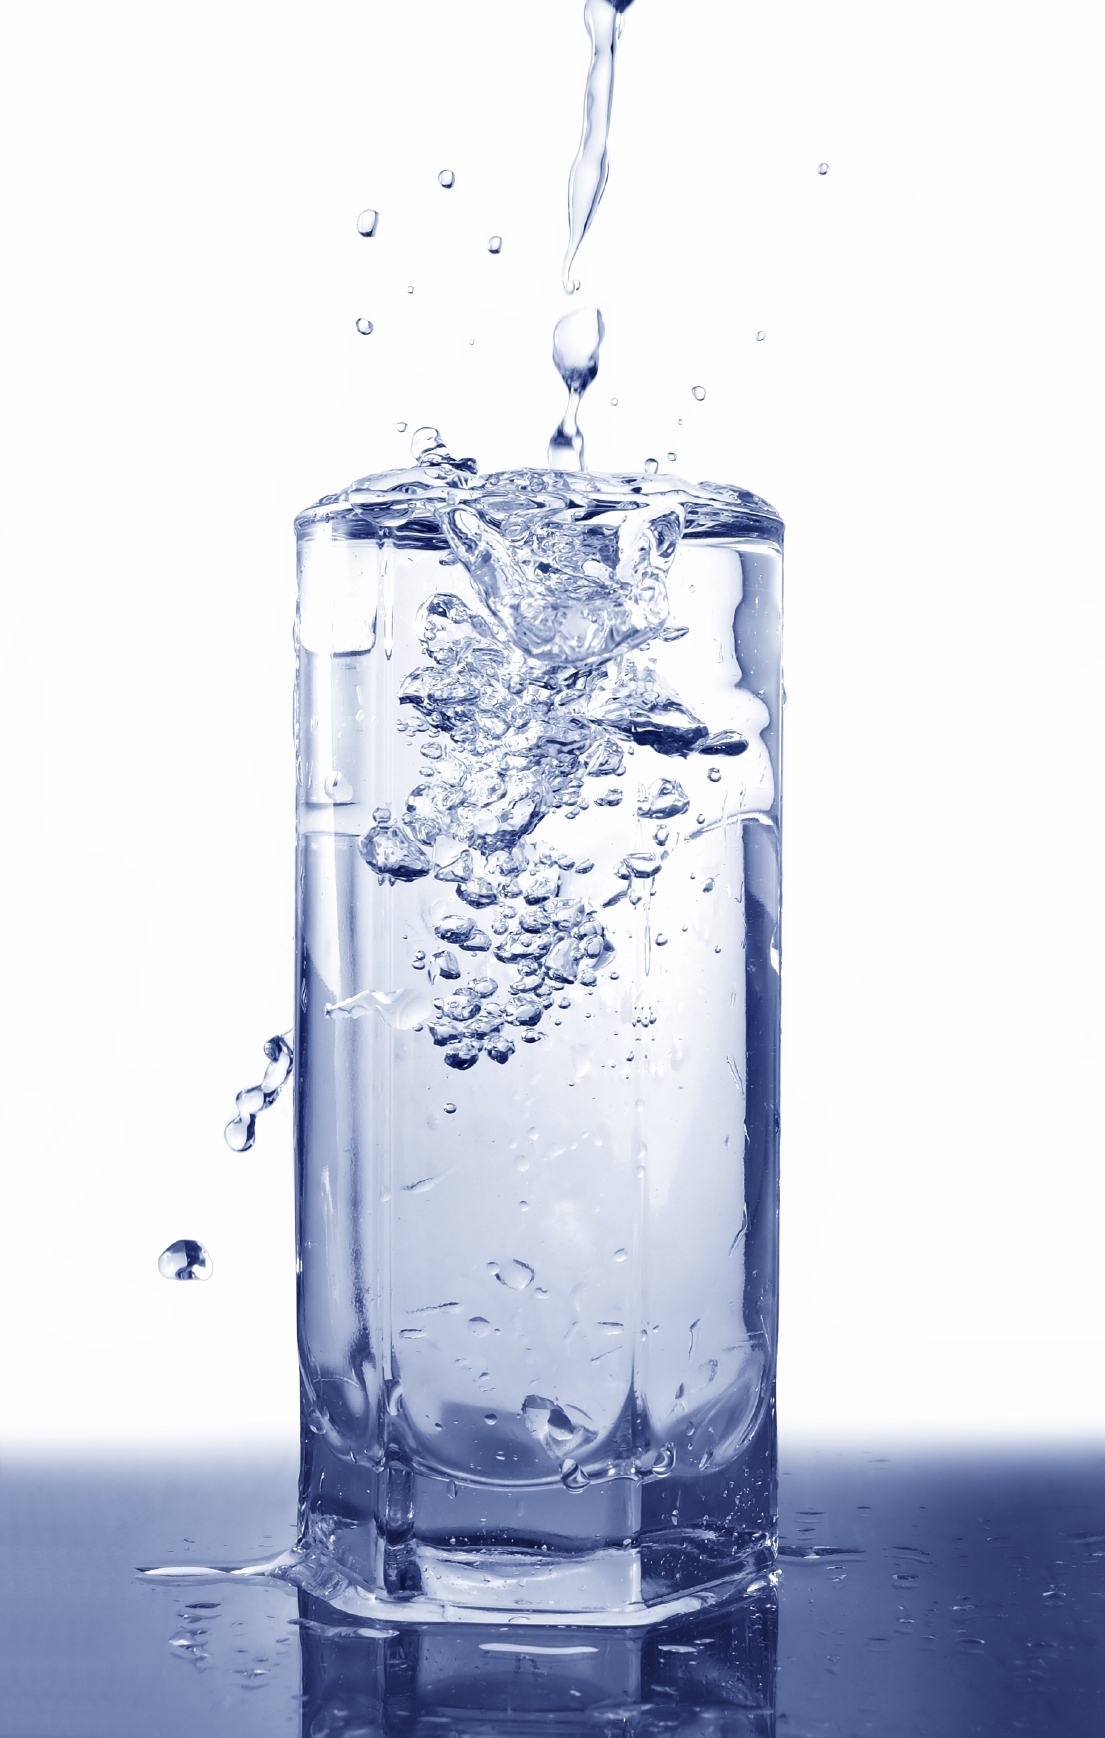glass of water: (275, 493, 776, 1563)
